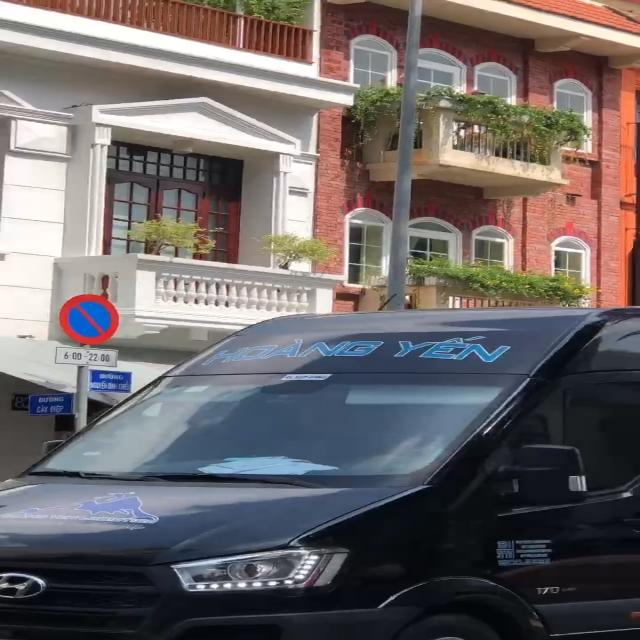Bien bao cam do xe: (53, 293, 129, 349)
